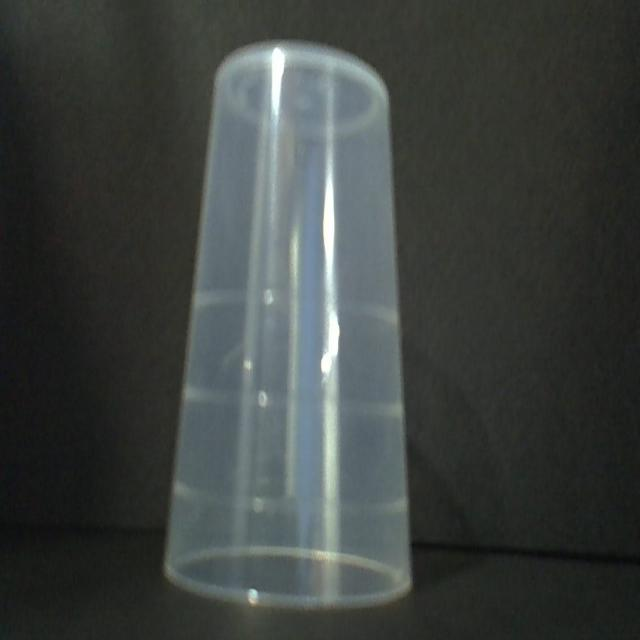cup: (162, 35, 423, 612)
